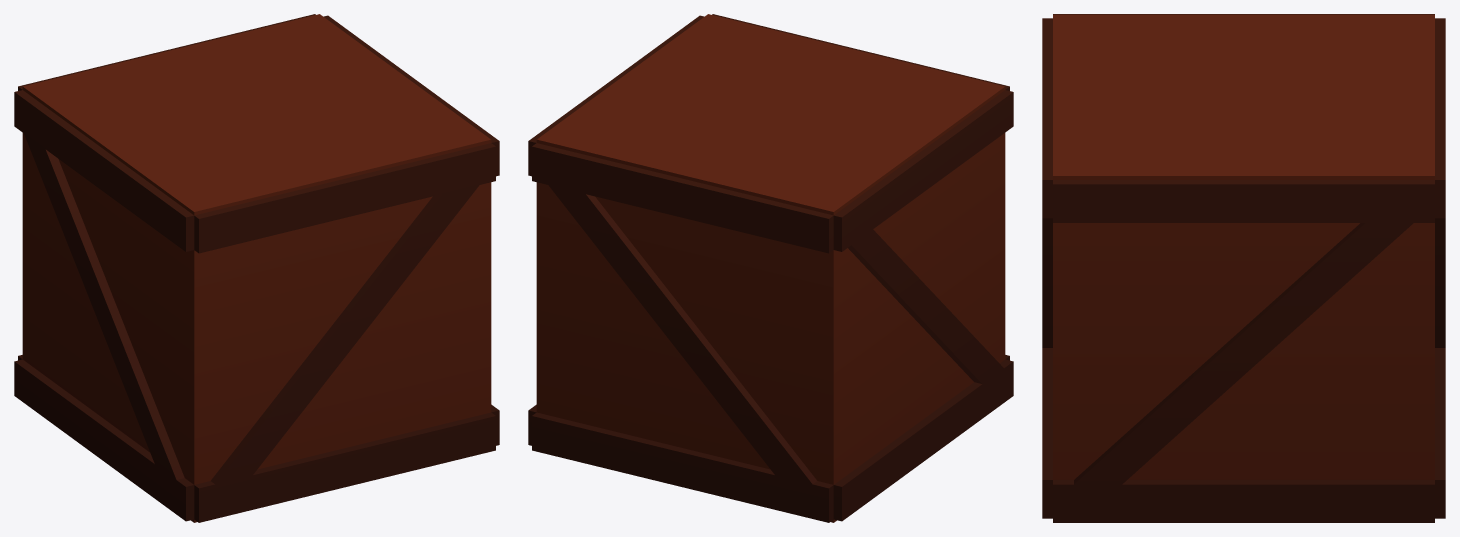
File: crate_brown.glb
3 renders of one model, left to right at view 1: azimuth 30°, elevation 25°; view 2: azimuth 150°, elevation 25°; view 3: azimuth 270°, elevation 25°, orthographic. The views are drawn at different scales.
Visible parts, largest first — view 1: crate_brown_root_body; view 2: crate_brown_root_body; view 3: crate_brown_root_body.
Boxes of the visible parts, x1,y1,x2,y2 form: crate_brown_root_body: [14, 14, 499, 522]; crate_brown_root_body: [528, 14, 1013, 522]; crate_brown_root_body: [1042, 14, 1445, 522].
Size of the model in its own units: 0.95 by 0.9 by 0.95.
